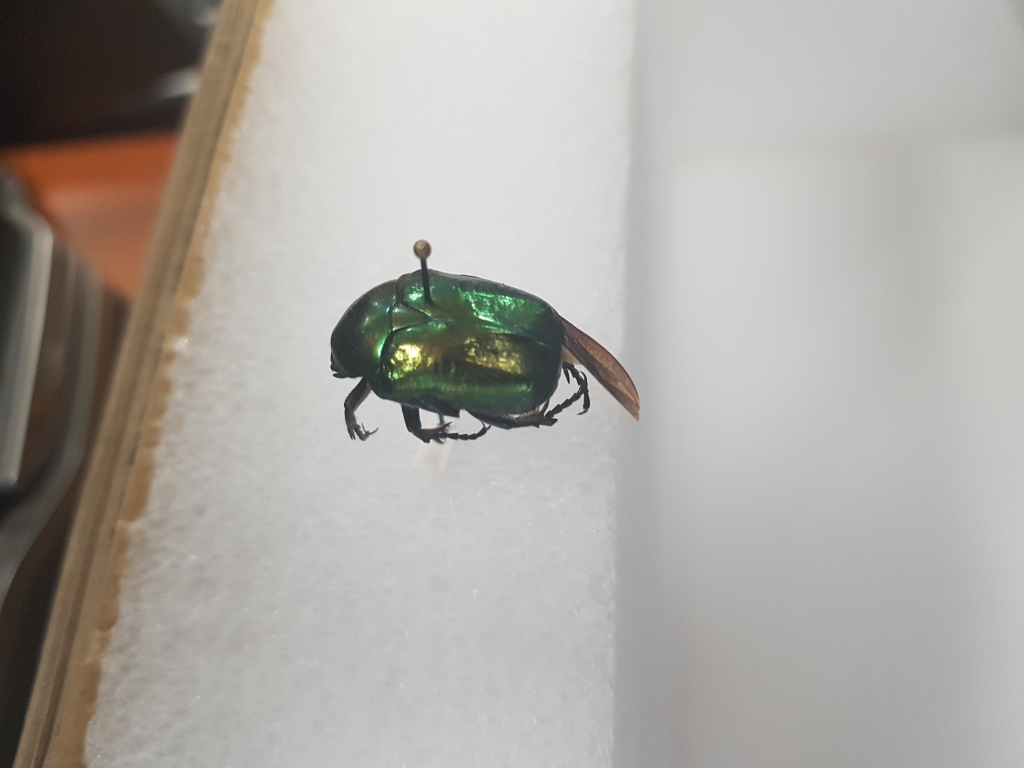Protaetia_angustata_angustata: (319, 257, 652, 472)
